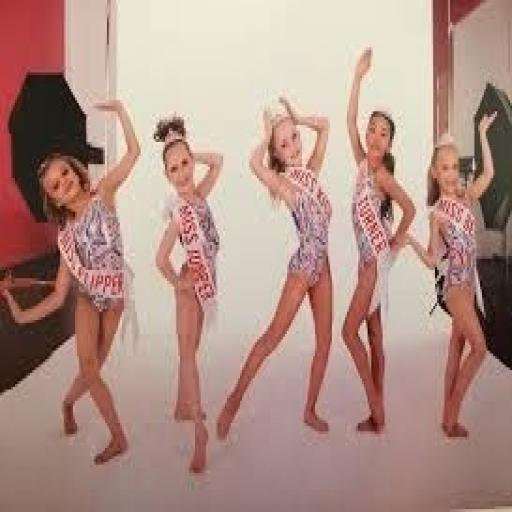dancing: (2, 78, 142, 467), (214, 92, 336, 442), (401, 106, 501, 442), (340, 42, 418, 437), (152, 111, 227, 476)
